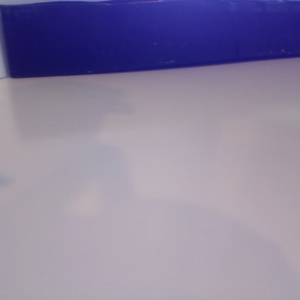zone: (1, 1, 300, 78)
